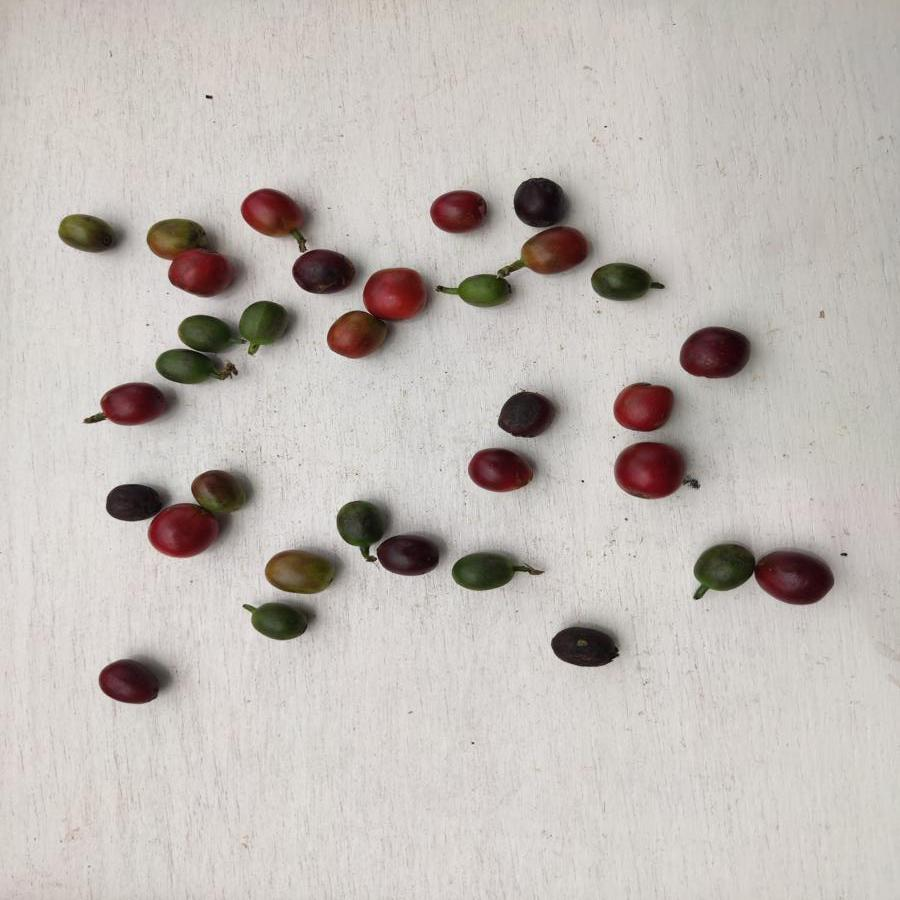Inmaduro: (691, 540, 754, 595), (448, 550, 516, 592), (174, 313, 235, 353), (587, 263, 653, 299), (238, 301, 290, 345), (156, 348, 220, 383), (248, 605, 308, 642), (335, 500, 382, 547), (456, 274, 513, 309)
Maduro: (614, 439, 685, 498), (147, 505, 220, 557), (362, 265, 426, 321), (608, 380, 676, 432), (241, 187, 304, 239), (166, 253, 234, 301), (97, 381, 169, 425), (429, 190, 487, 236)
Pinton: (511, 227, 587, 276), (263, 547, 337, 594), (326, 313, 389, 360), (189, 471, 247, 517), (54, 214, 119, 252), (143, 217, 211, 252)
Sobremaduro: (753, 547, 834, 606), (678, 326, 750, 380), (462, 447, 536, 492), (548, 625, 620, 668), (290, 248, 356, 294), (374, 533, 441, 577), (97, 659, 161, 705), (511, 177, 570, 226), (497, 390, 555, 439), (99, 482, 159, 520)
